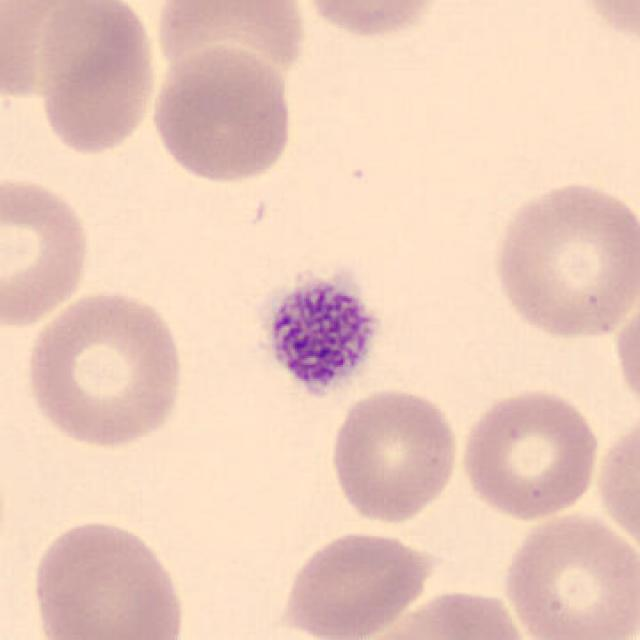Platelets: (252, 266, 386, 407)
RBC: (20, 286, 190, 451), (487, 174, 638, 344), (147, 42, 297, 187), (455, 382, 605, 524), (30, 2, 162, 158), (27, 515, 190, 640), (325, 383, 464, 527), (275, 525, 441, 640), (498, 508, 638, 640), (0, 170, 96, 332), (149, 0, 313, 92), (0, 0, 116, 106), (351, 583, 533, 640), (592, 409, 638, 561), (293, 0, 453, 42), (610, 291, 640, 418), (563, 0, 640, 47)
